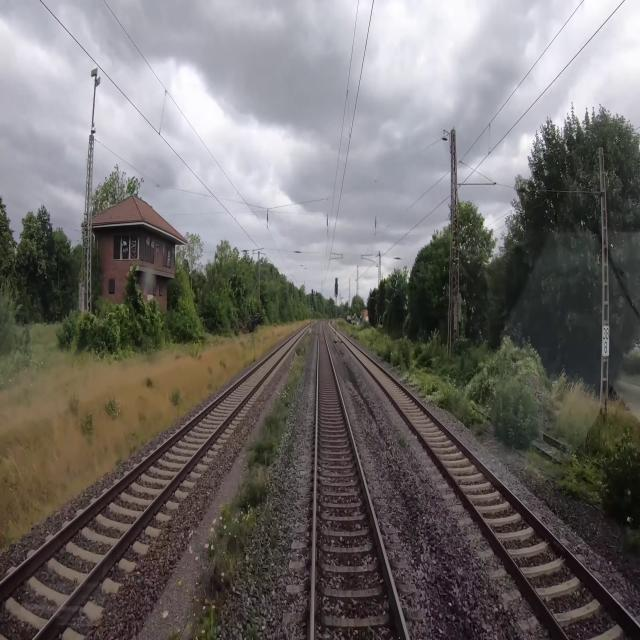Plant: (178, 332, 313, 639)
